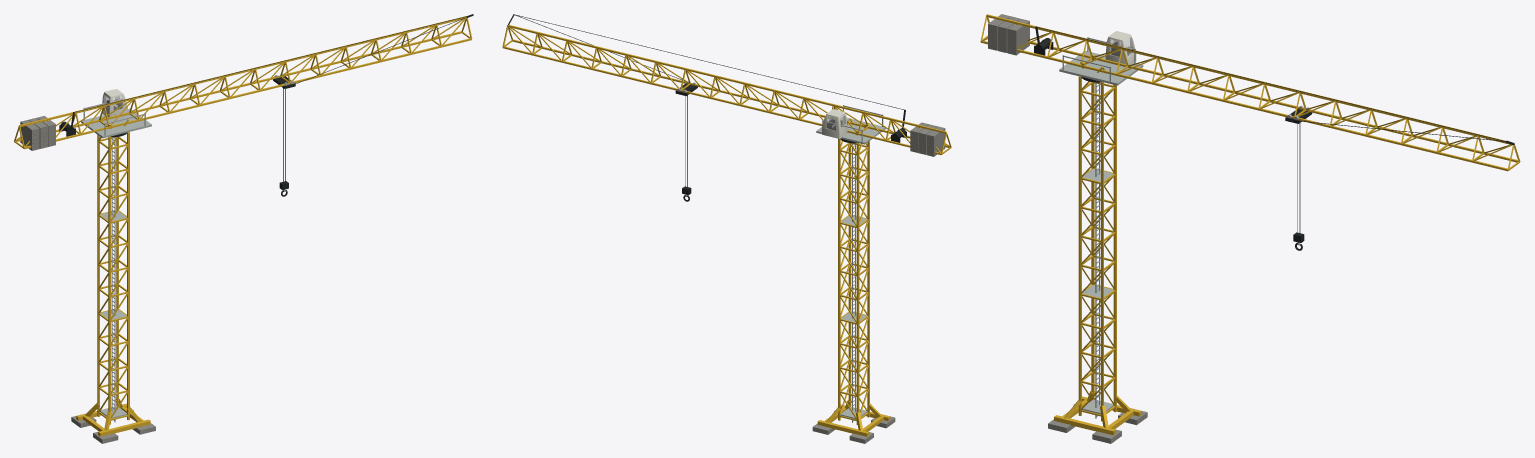
File: crane.glb
The picture shows the model from 3 angles, left to right: view 1: azimuth 30°, elevation 25°; view 2: azimuth 150°, elevation 25°; view 3: azimuth 330°, elevation 25°; orthographic projection. The views are drawn at different scales.
Parts seen in each view (by area): view 1: Working jib apex chord, Working jib lower chord -700, Working jib lower chord 700, Tower continuous mast corner -800 -800, Tower upper working deck, Tower continuous mast corner 800 -800, Tower continuous mast corner -800 800, Tower continuous mast corner 800 800, Tower upper hoist cable, Seated counterweight block 0; view 2: Working jib apex chord, Tower continuous mast corner -800 800, Working jib lower chord 700, Working jib lower chord -700, Tower continuous mast corner 800 800, Tower continuous mast corner -800 -800, Tower continuous mast corner 800 -800, Tower upper working deck, Tower operator cabin hollow rounded shell with actual apertu, Tower upper hoist cable, Seated counterweight block 0; view 3: Working jib apex chord, Working jib lower chord -700, Tower continuous mast corner -800 -800, Working jib lower chord 700, Tower continuous mast corner 800 800, Tower upper working deck, Tower continuous mast corner 800 -800, Tower continuous mast corner -800 800, Seated counterweight block 2, Tower operator cabin hollow rounded shell with actual apertu, Tower upper hoist cable, Mast ladder continuous stringer -220 (+1 smaller).
Part boxes in pixels (left/top/right/bottom): Working jib apex chord: left=104, top=16, right=466, bottom=106; Working jib lower chord -700: left=109, top=38, right=471, bottom=128; Working jib lower chord 700: left=103, top=31, right=461, bottom=120; Tower continuous mast corner -800 -800: left=108, top=136, right=110, bottom=424; Tower upper working deck: left=81, top=109, right=151, bottom=138; Tower continuous mast corner 800 -800: left=127, top=132, right=129, bottom=420; Tower continuous mast corner -800 800: left=97, top=135, right=99, bottom=416; Tower continuous mast corner 800 800: left=116, top=138, right=118, bottom=406; Tower upper hoist cable: left=74, top=15, right=472, bottom=112; Seated counterweight block 0: left=20, top=120, right=39, bottom=150; Working jib apex chord: left=507, top=25, right=862, bottom=113; Tower continuous mast corner -800 800: left=856, top=143, right=859, bottom=424; Working jib lower chord 700: left=502, top=46, right=858, bottom=134; Working jib lower chord -700: left=512, top=39, right=864, bottom=127; Tower continuous mast corner 800 800: left=838, top=138, right=840, bottom=420; Tower continuous mast corner -800 -800: left=867, top=141, right=869, bottom=417; Tower continuous mast corner 800 -800: left=848, top=145, right=851, bottom=406; Tower upper working deck: left=816, top=117, right=885, bottom=144; Tower operator cabin hollow rounded shell with actual apertu: left=821, top=109, right=847, bottom=138; Tower upper hoist cable: left=515, top=14, right=904, bottom=109; Seated counterweight block 0: left=926, top=126, right=945, bottom=156; Working jib apex chord: left=1086, top=38, right=1513, bottom=145; Working jib lower chord -700: left=1080, top=65, right=1508, bottom=171; Tower continuous mast corner -800 -800: left=1078, top=76, right=1081, bottom=415; Working jib lower chord 700: left=1095, top=57, right=1518, bottom=162; Tower continuous mast corner 800 800: left=1113, top=85, right=1116, bottom=412; Tower upper working deck: left=1059, top=50, right=1143, bottom=85; Tower continuous mast corner 800 -800: left=1101, top=82, right=1103, bottom=421; Tower continuous mast corner -800 800: left=1091, top=82, right=1094, bottom=400; Seated counterweight block 2: left=1007, top=19, right=1029, bottom=55; Tower operator cabin hollow rounded shell with actual apertu: left=1105, top=31, right=1136, bottom=64; Tower upper hoist cable: left=1036, top=26, right=1506, bottom=141; Mast ladder continuous stringer -220: left=1095, top=82, right=1096, bottom=418.
Size of the model in its own units: 38.13 by 26.81 by 4.55.
10 materials, 10 textured.
